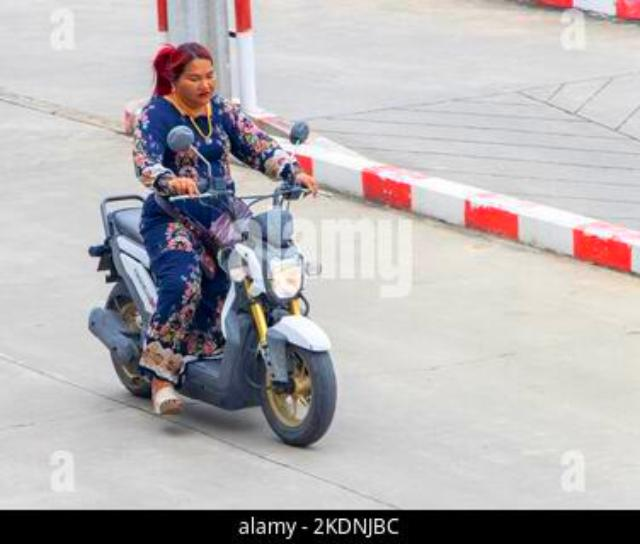motor: (94, 120, 337, 447)
non-helm: (154, 41, 215, 108)
